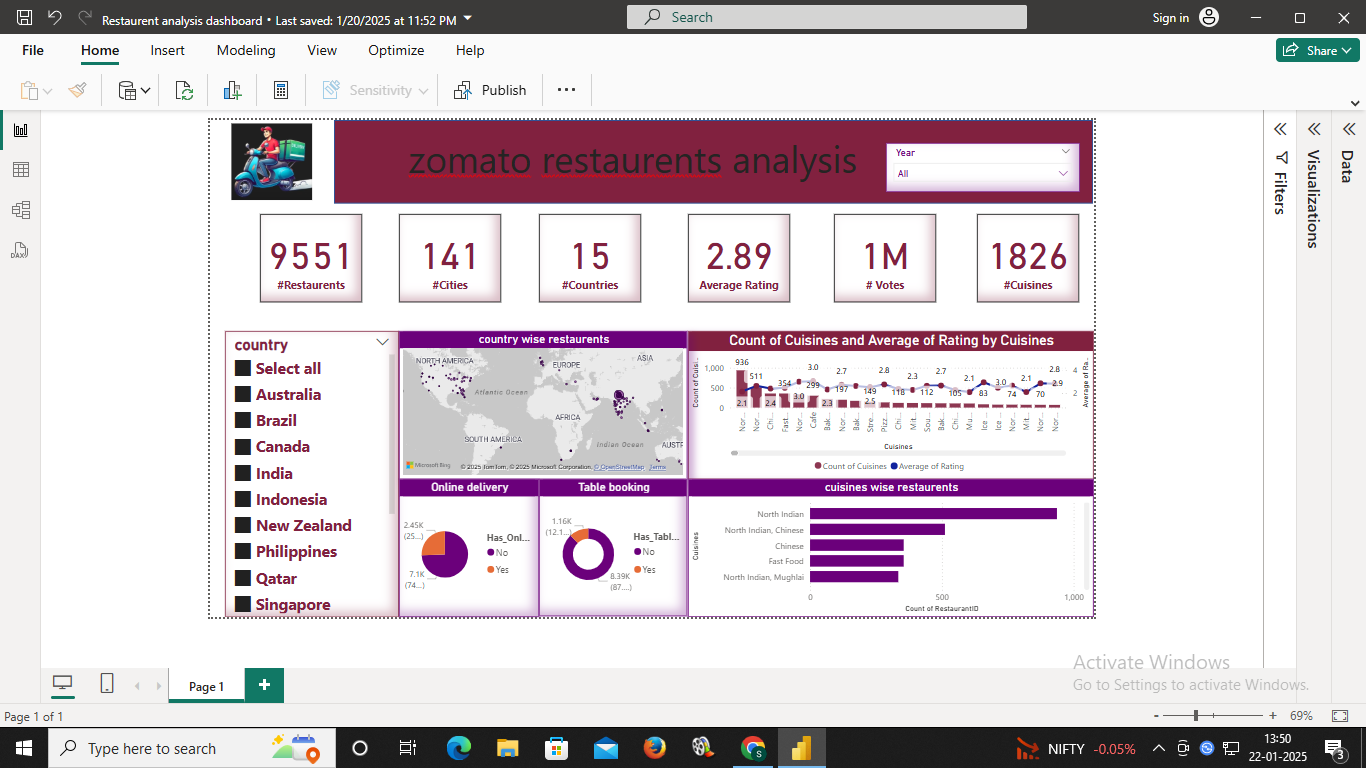

What the dashboard file says about the page in this screenshot:
{"tool":"powerbi","page":{"name":"Page 1","canvas":[1280,720],"ordinal":0},"visuals":[{"type":"shape","box":[179.7,0,1100.3,120.9],"z":0},{"type":"image","box":[0,0,179.7,120.9],"z":1000},{"type":"textbox","box":[238.5,15.1,747.5,68.9],"z":2000},{"type":"card","fields":{"Values":["Count(restaurents.RestaurantID)"]},"box":[72.2,136.1,147.8,127.7],"z":3000},{"type":"card","fields":{"Values":["Count(restaurents.CountryCode)"]},"box":[477.1,136.1,147.8,127.7],"z":4000},{"type":"card","fields":{"Values":["Count(restaurents.City)"]},"box":[273.8,136.1,147.8,127.7],"z":5000},{"type":"card","fields":{"Values":["Count(restaurents.Cuisines)"]},"box":[1112,136.1,147.8,127.7],"z":6000},{"type":"card","fields":{"Values":["Sum(restaurents.Votes)"]},"box":[903.7,136.1,147.8,127.7],"z":7000},{"type":"card","fields":{"Values":["Avg(restaurents.Rating)"]},"box":[692.1,136.1,147.8,127.7],"z":8000},{"type":"slicer","fields":{"Values":["countries.country name"]},"box":[21.8,305.7,252,414.9],"z":9000},{"type":"lineStackedColumnComboChart","fields":{"Category":["restaurents.Cuisines"],"Y":["CountNonNull(restaurents.Cuisines)"],"Y2":["Avg(restaurents.Rating)"]},"box":[692.1,305.7,587.9,215],"z":10000},{"type":"map","title":"country wise restaurents","fields":{"Category":["restaurents.City"],"Size":["CountNonNull(restaurents.RestaurantID)"]},"box":[273.8,305.7,418.3,215],"z":10001},{"type":"clusteredBarChart","title":"cuisines wise restaurents","fields":{"Category":["restaurents.Cuisines"],"Y":["CountNonNull(restaurents.RestaurantID)"]},"box":[692.1,520.7,587.9,199.9],"z":10002},{"type":"pieChart","title":"Online delivery","fields":{"Category":["restaurents.Has_Online_delivery"],"Y":["CountNonNull(restaurents.RestaurantID)"]},"box":[273.8,520.7,203.3,199.9],"z":10003},{"type":"donutChart","title":"Table booking","fields":{"Category":["restaurents.Has_Table_booking"],"Y":["CountNonNull(restaurents.RestaurantID)"]},"box":[477,521,215,199],"z":10004},{"type":"slicer","fields":{"Values":["restaurents.Datekey_Opening.Variation.Date Hierarchy.Year"]},"box":[979.2,33.1,280.8,70.6],"z":10005}]}

Visuals, with their boxes on the page's 1280x720 design canvas (x1, y1, x2, y2). These are canvas units, not pixel positions in the 1366x768 screenshot, which may show the page scaled, cropped or inside an application window:
shape: select_region(180, 0, 1280, 121)
image: select_region(0, 0, 180, 121)
textbox: select_region(238, 15, 986, 84)
card - Count(restaurents.RestaurantID): select_region(72, 136, 220, 264)
card - Count(restaurents.CountryCode): select_region(477, 136, 625, 264)
card - Count(restaurents.City): select_region(274, 136, 422, 264)
card - Count(restaurents.Cuisines): select_region(1112, 136, 1260, 264)
card - Sum(restaurents.Votes): select_region(904, 136, 1052, 264)
card - Avg(restaurents.Rating): select_region(692, 136, 840, 264)
slicer - countries.country name: select_region(22, 306, 274, 721)
lineStackedColumnComboChart - restaurents.Cuisines x CountNonNull(restaurents.Cuisines): select_region(692, 306, 1280, 521)
"country wise restaurents" map: select_region(274, 306, 692, 521)
"cuisines wise restaurents" clusteredBarChart: select_region(692, 521, 1280, 721)
"Online delivery" pieChart: select_region(274, 521, 477, 721)
"Table booking" donutChart: select_region(477, 521, 692, 720)
slicer - restaurents.Datekey_Opening.Variation.Date Hierarchy.Year: select_region(979, 33, 1260, 104)
